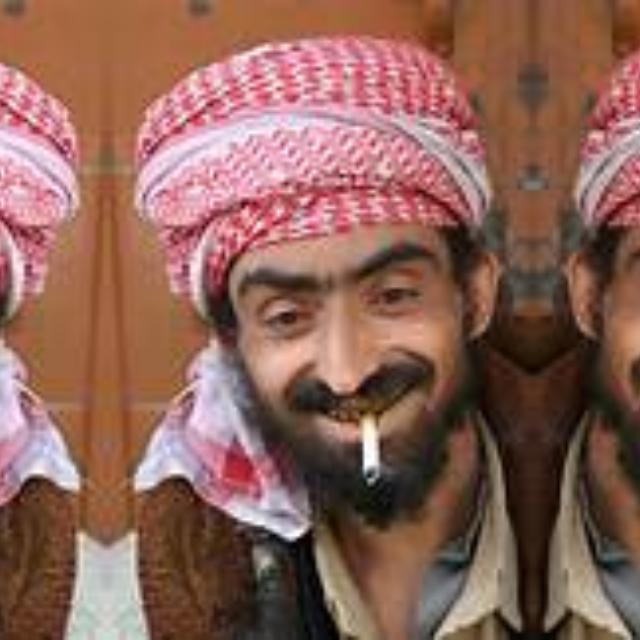person: (120, 22, 532, 630), (532, 21, 640, 630), (0, 21, 92, 630)
